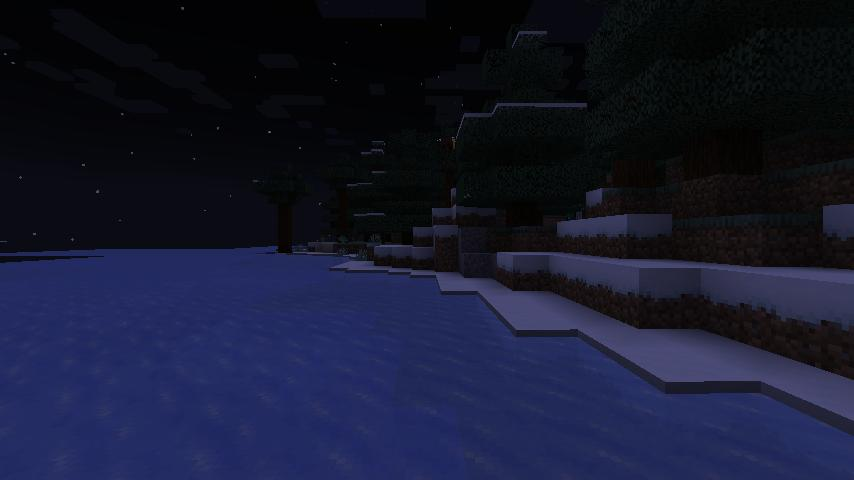bee: (437, 134, 457, 153)
